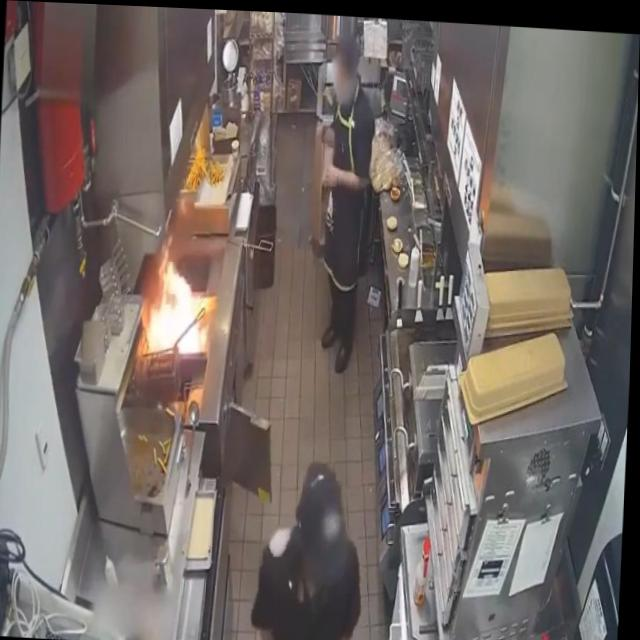fire: (139, 237, 214, 363)
